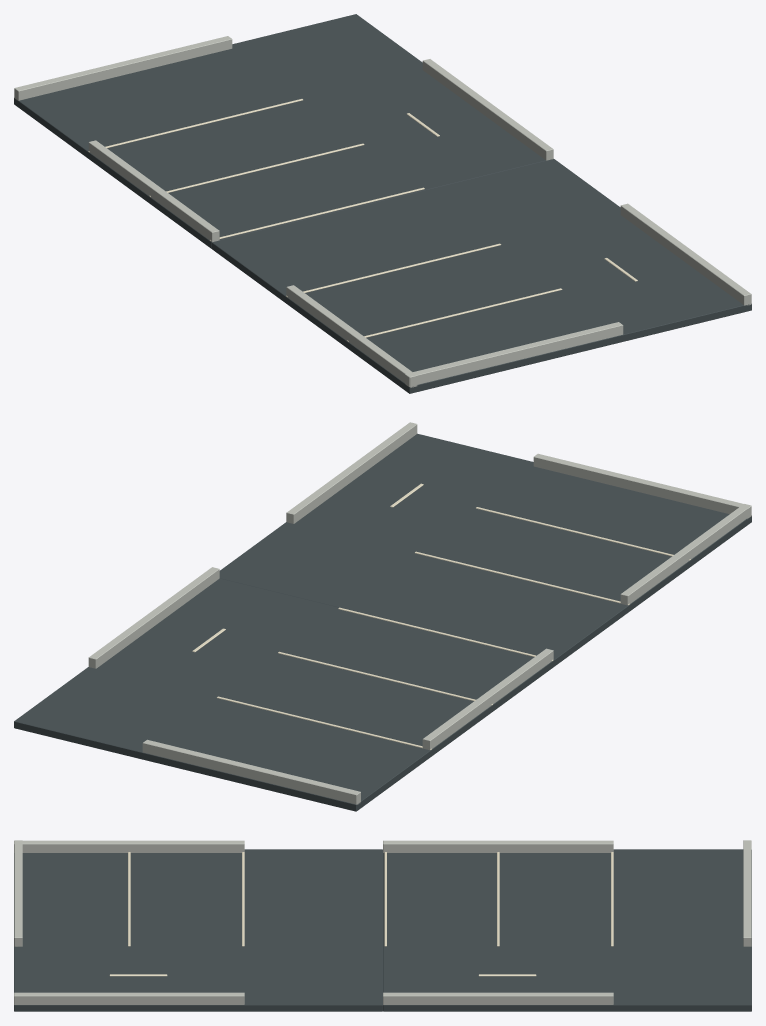
File: facility.glb
The picture shows the model from 3 angles, top to bottom: view 1: azimuth 30°, elevation 25°; view 2: azimuth 150°, elevation 25°; view 3: azimuth 270°, elevation 25°; orthographic projection. The views are drawn at different scales.
Parts seen in each view (by area): view 1: FacilityCombinedMesh; view 2: FacilityCombinedMesh; view 3: FacilityCombinedMesh.
Part boxes in pixels (box(x1,y1,x2,y2)): FacilityCombinedMesh: box(14, 14, 751, 393); FacilityCombinedMesh: box(14, 422, 751, 811); FacilityCombinedMesh: box(14, 840, 751, 1011).
Bounding box in the file's own units: 8 × 0.375 × 16.
